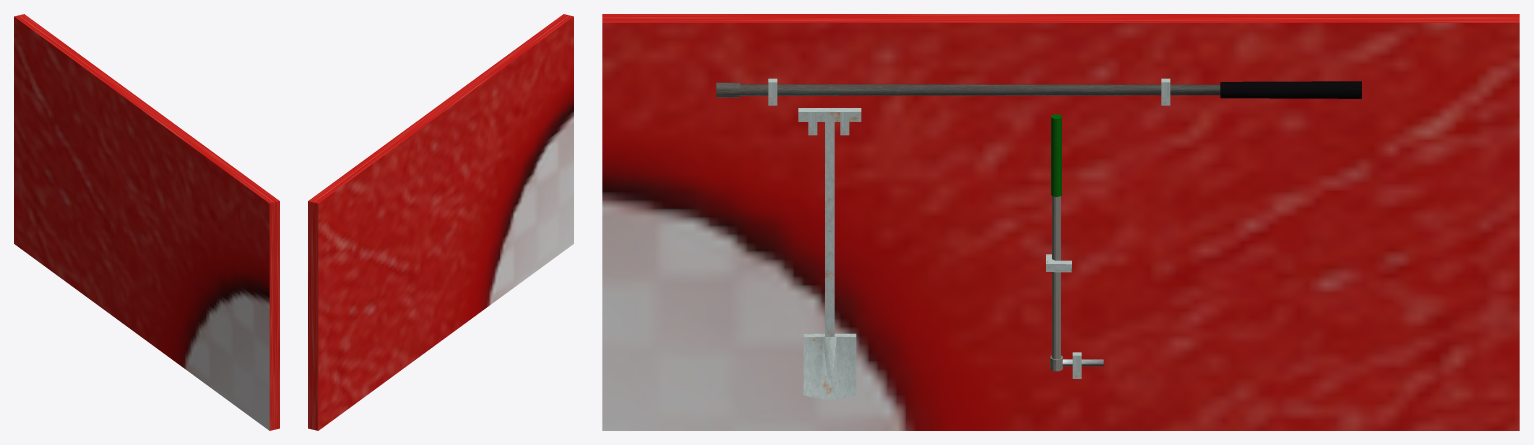
Rendered from tool board.fbx.
The picture shows the model from 3 angles, left to right: view 1: azimuth 30°, elevation 25°; view 2: azimuth 150°, elevation 25°; view 3: azimuth 270°, elevation 25°; orthographic projection. The views are drawn at different scales.
Parts seen in each view (by area): view 1: Cube; view 2: Cube; view 3: Cube, Crowbar, SHOVEL, Crowbar_HANDAL, L_TOOL, L_TOOL_HANDAL.
Part boxes in pixels (box(x1,y1,x2,y2)): Cube: box(14, 14, 279, 430); Cube: box(308, 14, 573, 430); Cube: box(602, 14, 1519, 430); Crowbar: box(716, 82, 1220, 97); SHOVEL: box(803, 122, 856, 399); Crowbar_HANDAL: box(1220, 81, 1361, 98); L_TOOL: box(1050, 196, 1103, 371); L_TOOL_HANDAL: box(1051, 114, 1061, 196).
Bounding box in the file's own units: 24.25 × 200 × 408.
Materials: 6 (6 with a texture image).
